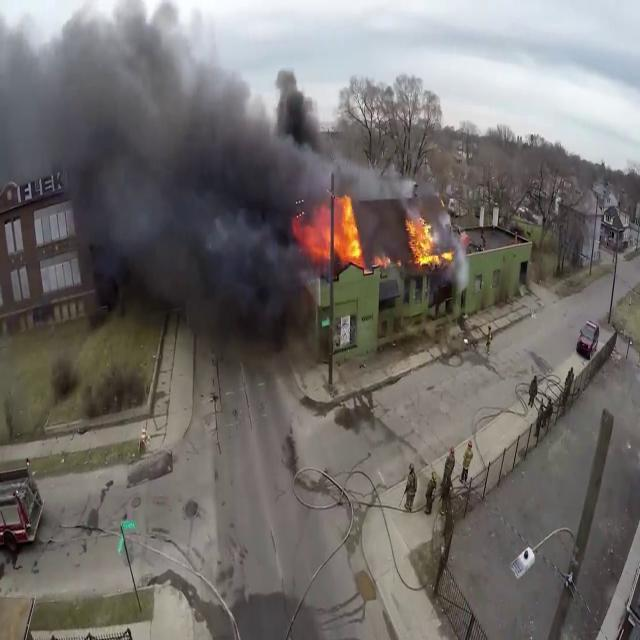Fire: (303, 190, 367, 270), (402, 208, 446, 272)
Smoke: (0, 0, 332, 301)
